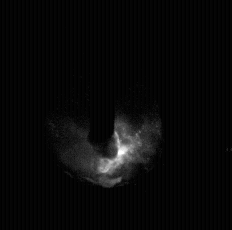arame: (90, 0, 119, 159)
poca: (55, 0, 157, 230)
